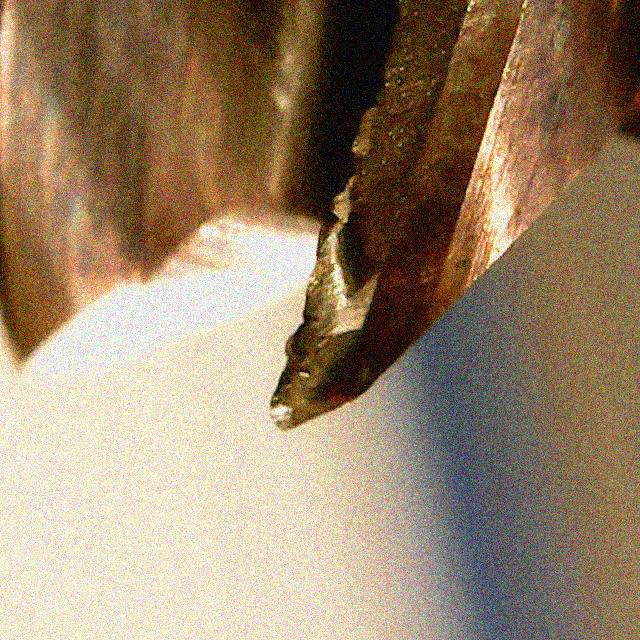Tool-wear-class-3: (252, 217, 439, 439)
